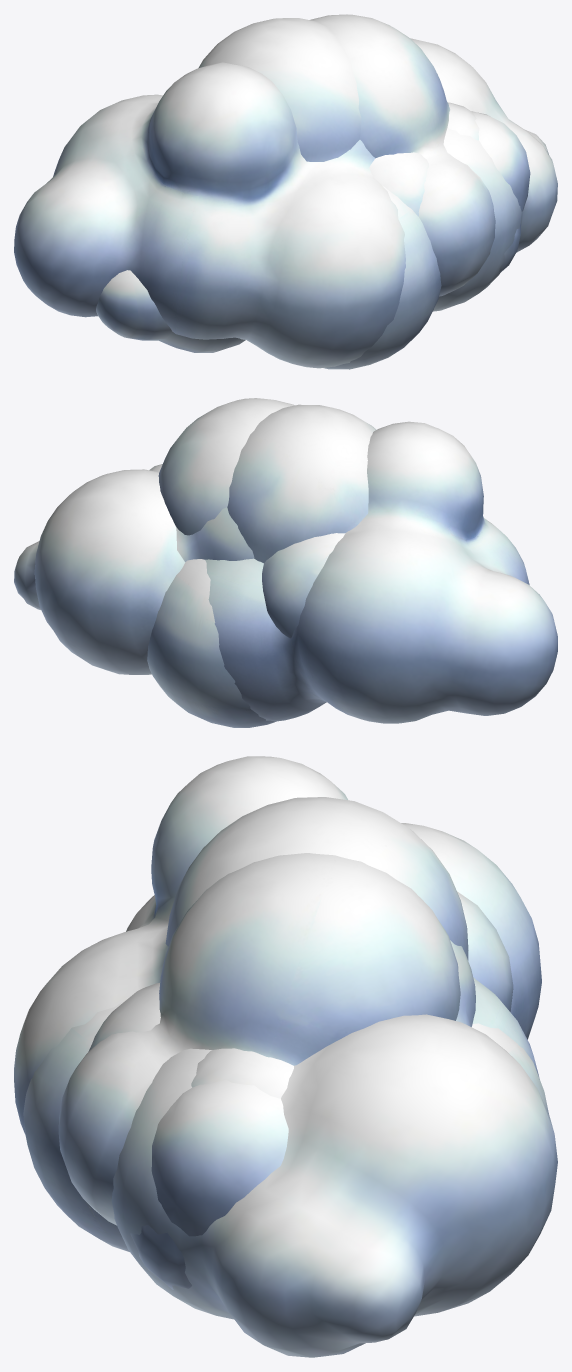
The model's file is Cloud.glb.
3 views of the same model, one above another, from view 1: azimuth 30°, elevation 25°; view 2: azimuth 150°, elevation 25°; view 3: azimuth 270°, elevation 25° (orthographic). The views are drawn at different scales.
Visible parts, largest first — view 1: Cloud_05, Cloud_03, Cloud_04, Cloud_02; view 2: Cloud_05, Cloud_04, Cloud_03, Cloud_02; view 3: Cloud_05, Cloud_03, Cloud_04, Cloud_02.
Part boxes in pixels (x1,y1,x2,y2): Cloud_05: [14, 38, 557, 368]; Cloud_03: [96, 14, 530, 352]; Cloud_04: [198, 18, 441, 369]; Cloud_02: [369, 102, 479, 216]; Cloud_05: [14, 421, 557, 723]; Cloud_04: [147, 404, 376, 727]; Cloud_03: [149, 398, 345, 638]; Cloud_02: [176, 507, 254, 561]; Cloud_05: [14, 756, 557, 1357]; Cloud_03: [58, 853, 513, 1289]; Cloud_04: [23, 797, 548, 1251]; Cloud_02: [88, 940, 475, 1098].
Size of the model in its own units: 8.65 by 4.64 by 5.3.
1 material, 1 textured.
